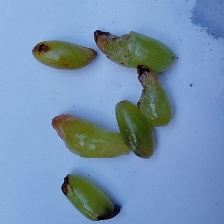grapes: (39, 53, 197, 192)
